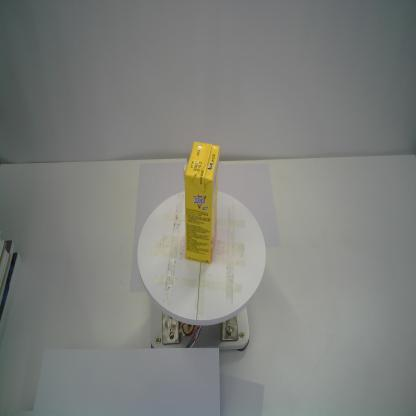Drink: (184, 140, 220, 264)
